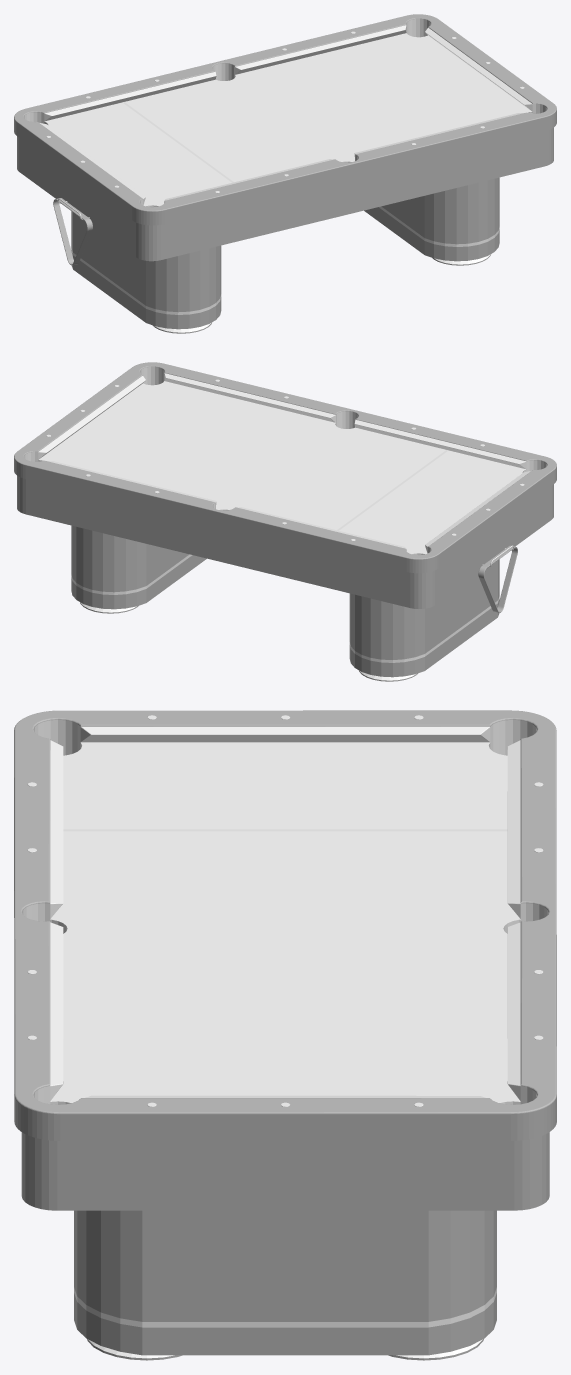
Rendered from PoolTable03.fbx.
The picture shows the model from 3 angles, top to bottom: view 1: azimuth 30°, elevation 25°; view 2: azimuth 150°, elevation 25°; view 3: azimuth 270°, elevation 25°; orthographic projection. The views are drawn at different scales.
Parts seen in each view (by area): view 1: Pool01; view 2: Pool01; view 3: Pool01.
Boxes of the visible parts, bbox=[...] form: Pool01: bbox=[14, 14, 556, 333]; Pool01: bbox=[14, 362, 556, 681]; Pool01: bbox=[14, 710, 556, 1360].
Size of the model in its own units: 252 by 83.34 by 141.
